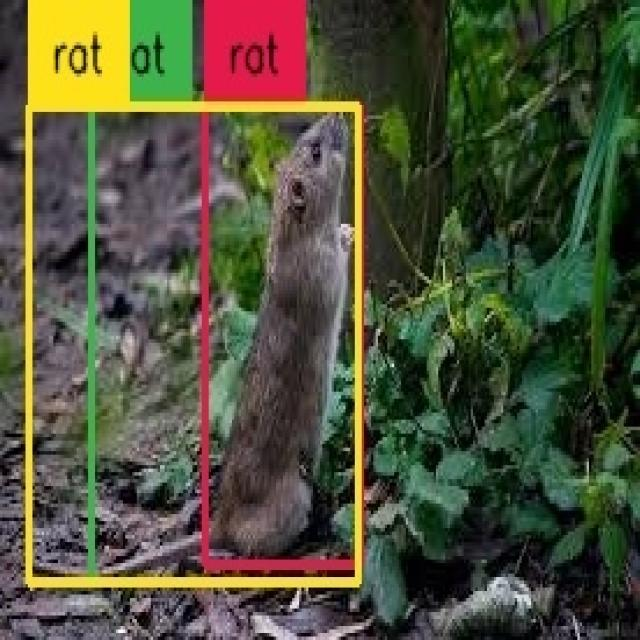rat: (29, 109, 358, 580), (93, 109, 359, 580), (204, 108, 359, 563)
